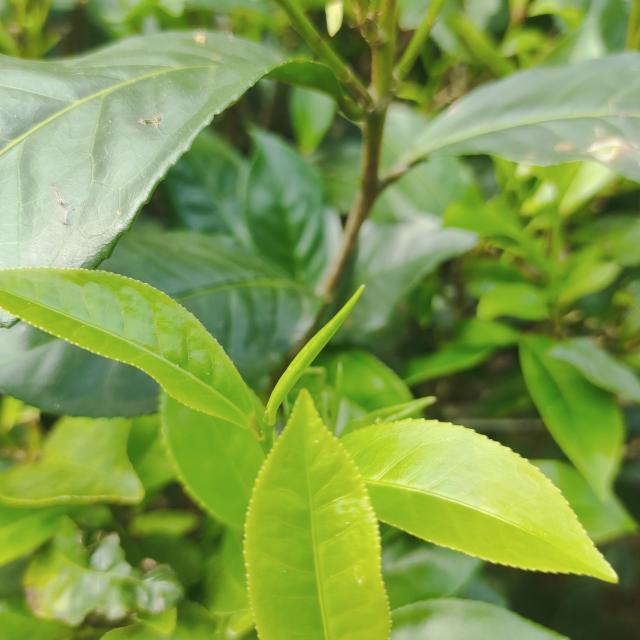unopened_leaf: (257, 280, 375, 432)
